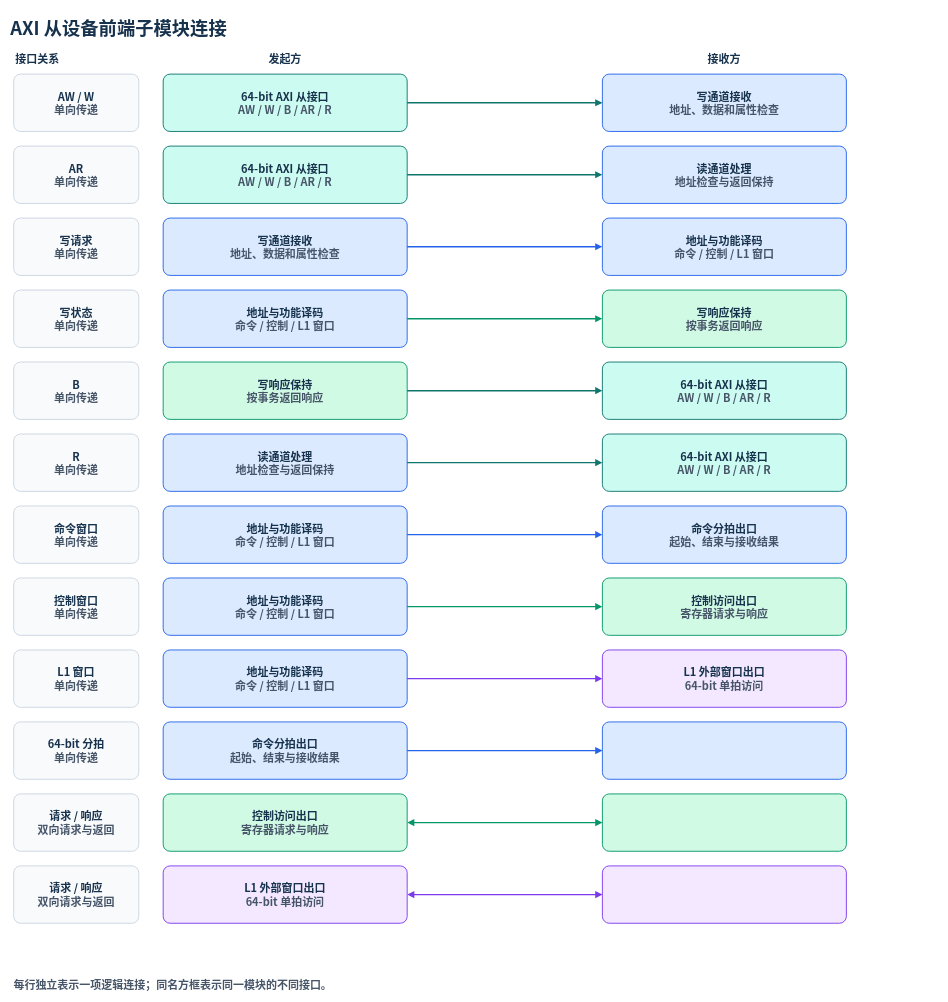
Image size: 948x1002. Some labels were removed from this diagram. The shapes that lost their labels are listed below. From the top down, each one's box as (x1, y1, x2, y2) in pixels, then its label:
(602, 721, 847, 779): 命令前端 完整指令接收
(602, 793, 847, 851): 系统控制 配置与状态
(602, 865, 847, 923): L1BUF 子系统 外部访问端口
